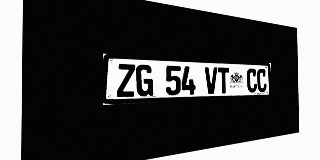4: (181, 66, 195, 95)
5: (166, 65, 181, 95)
C: (247, 68, 257, 93), (257, 69, 267, 92)
G: (136, 64, 153, 97)
T: (218, 67, 229, 94)
V: (205, 67, 217, 94)
Z: (117, 64, 135, 97)
